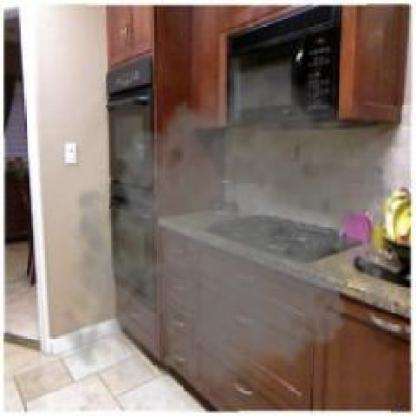Smoke: (51, 50, 403, 409)
